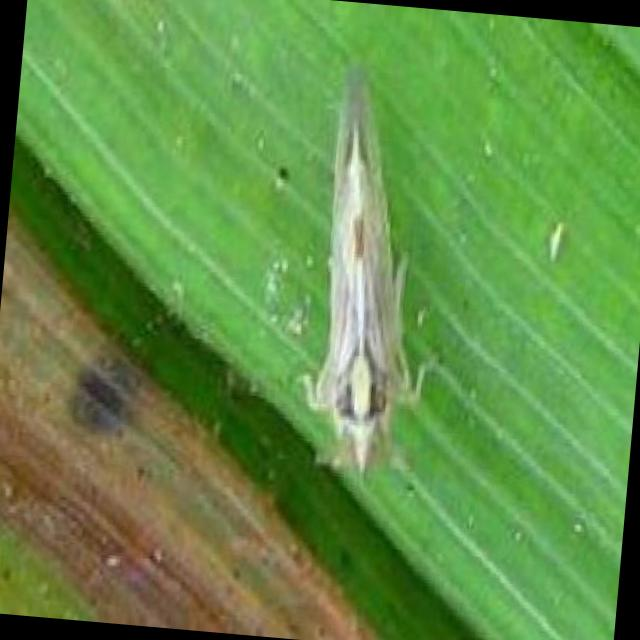brown-planthopper: (292, 58, 445, 481)
